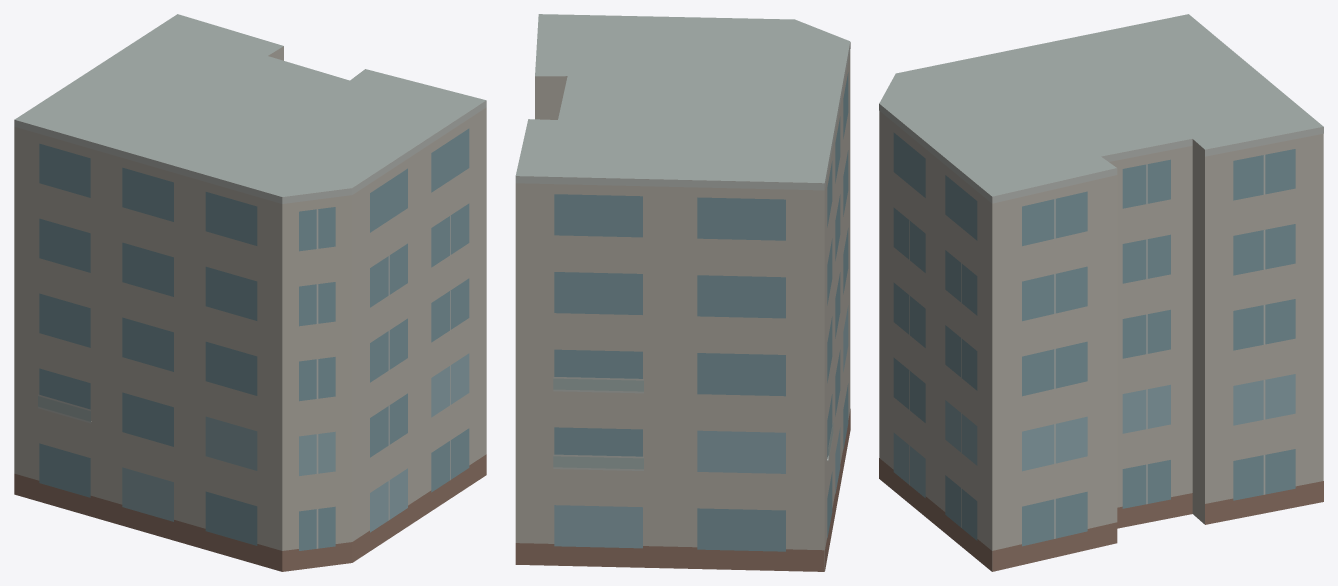
Rendered from survey-upis-32741629.glb.
3 renders of one model, left to right at view 1: azimuth 30°, elevation 25°; view 2: azimuth 150°, elevation 25°; view 3: azimuth 270°, elevation 25°, orthographic. The views are drawn at different scales.
Visible parts, largest first — view 1: survey-upis-32741629.tmp; view 2: survey-upis-32741629.tmp; view 3: survey-upis-32741629.tmp.
Part boxes in pixels (left/top/right/bottom): survey-upis-32741629.tmp: left=14, top=14, right=486, bottom=571; survey-upis-32741629.tmp: left=515, top=14, right=850, bottom=571; survey-upis-32741629.tmp: left=879, top=14, right=1323, bottom=571.
Size of the model in its own units: 13.69 by 13.1 by 14.08.
